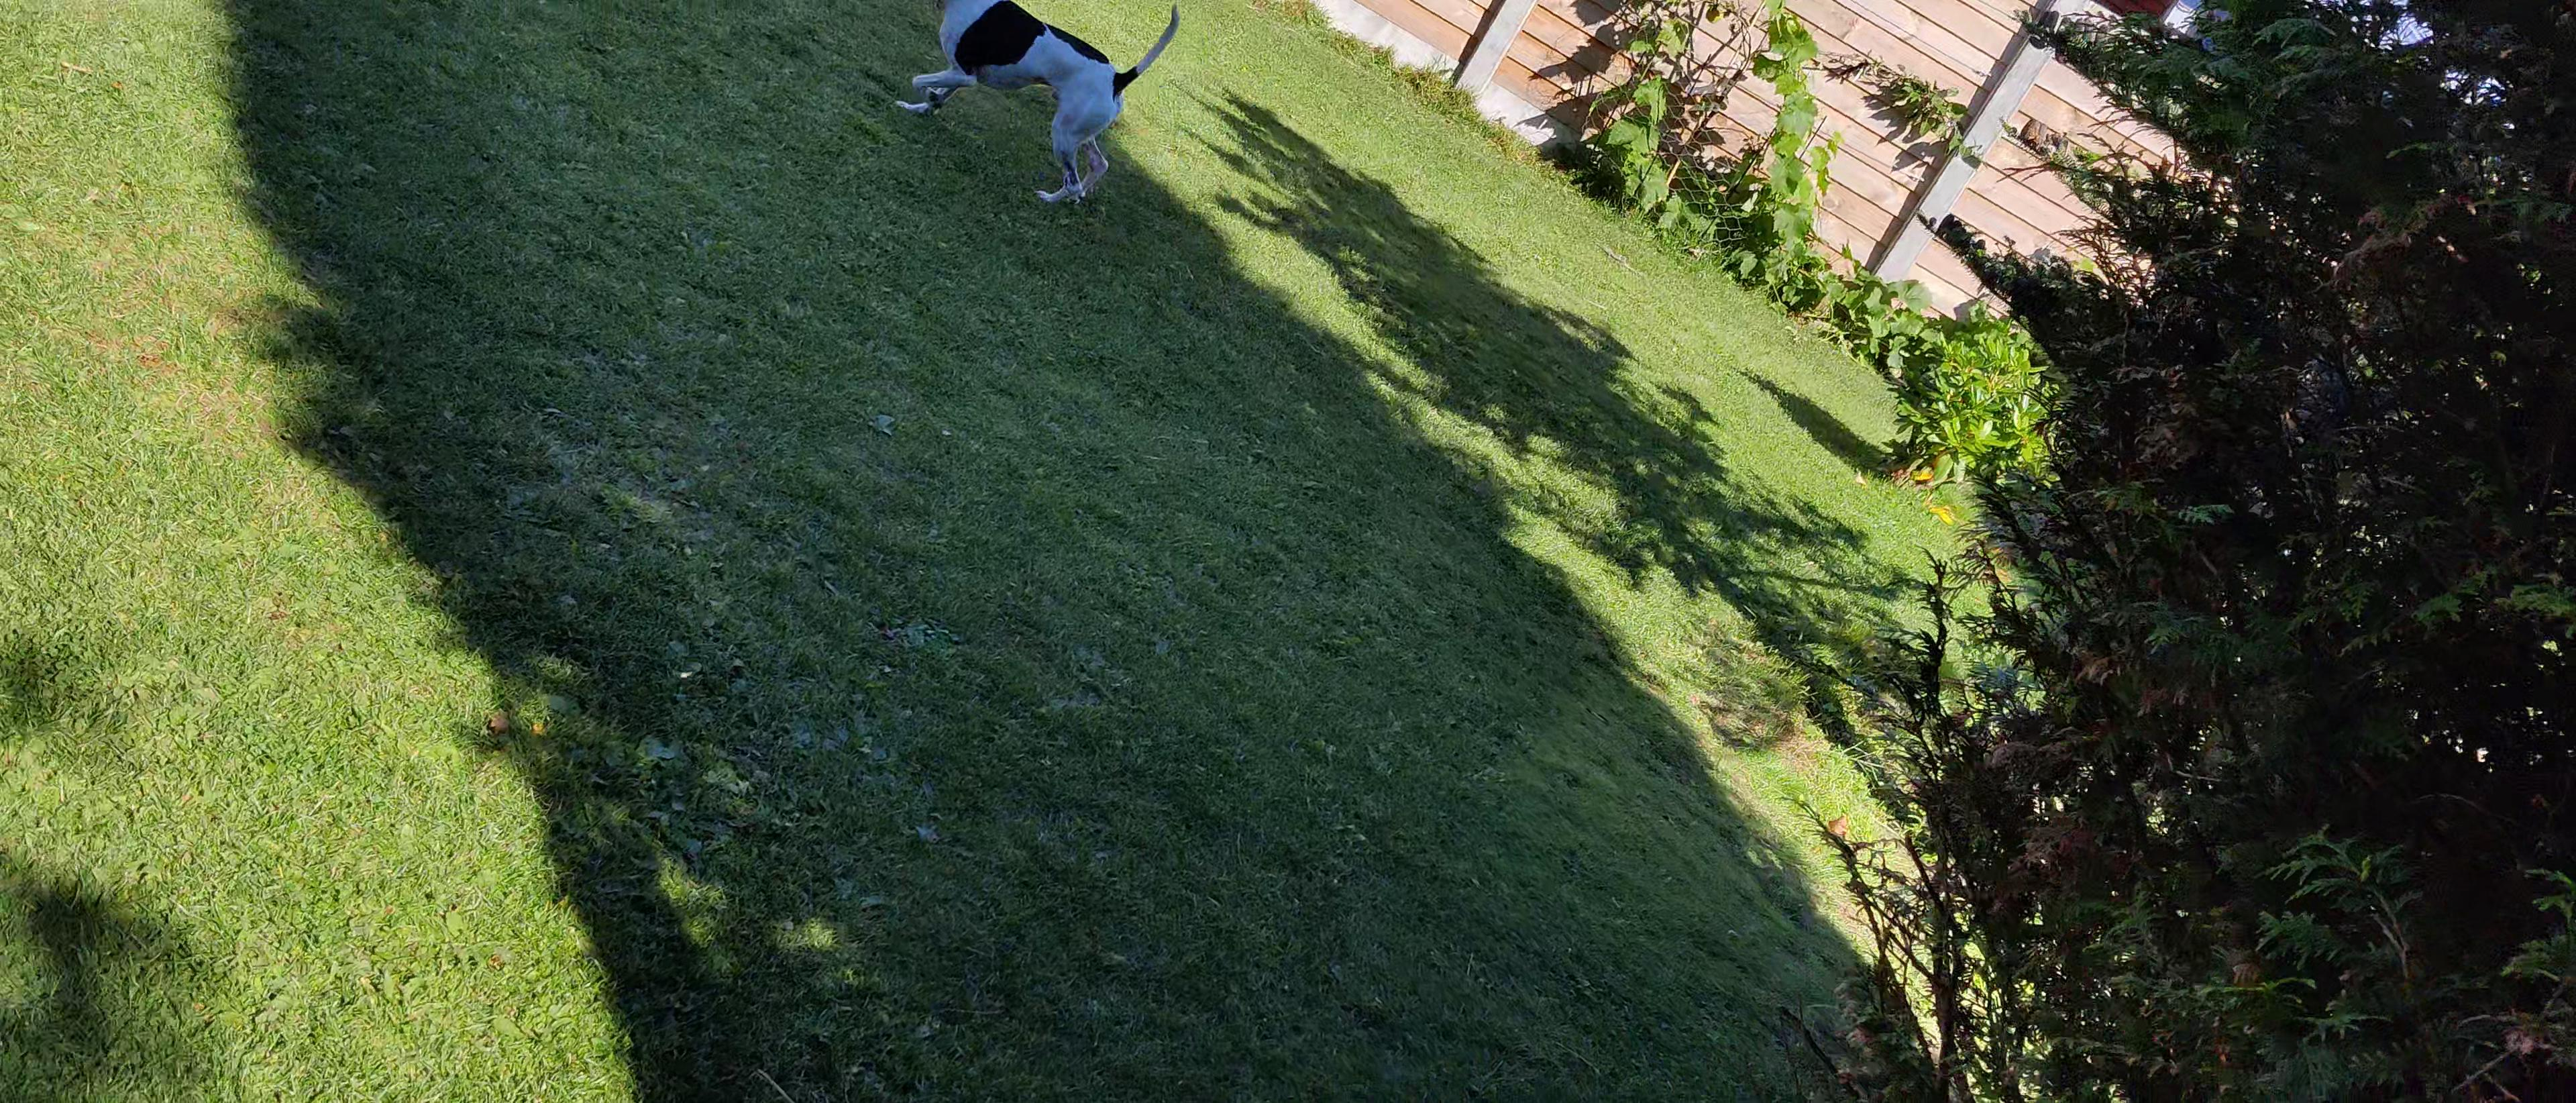Dog: (894, 0, 1181, 207)
